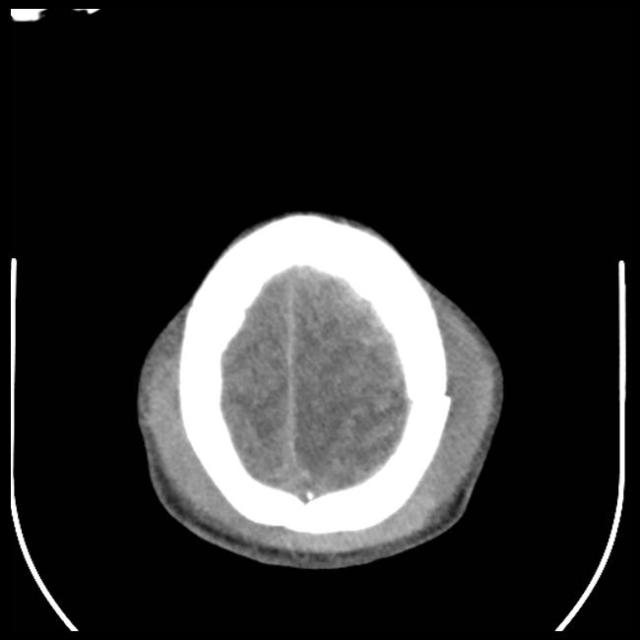lesion: (131, 205, 508, 573)
